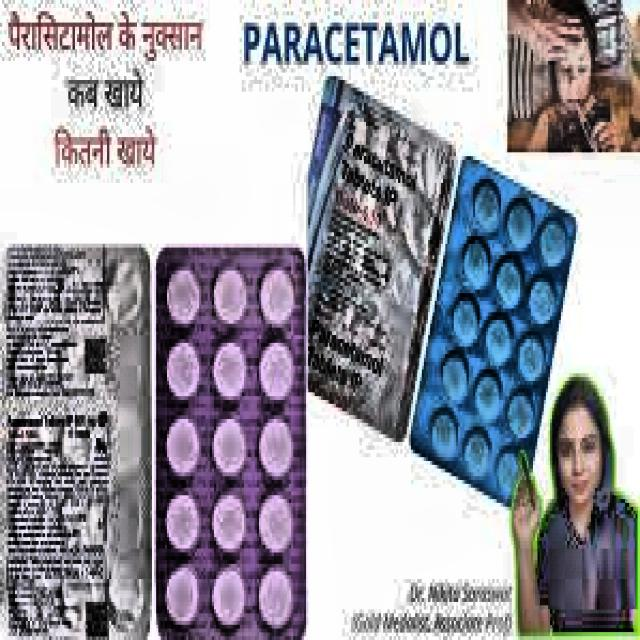Paracetamol: (234, 11, 466, 110)
